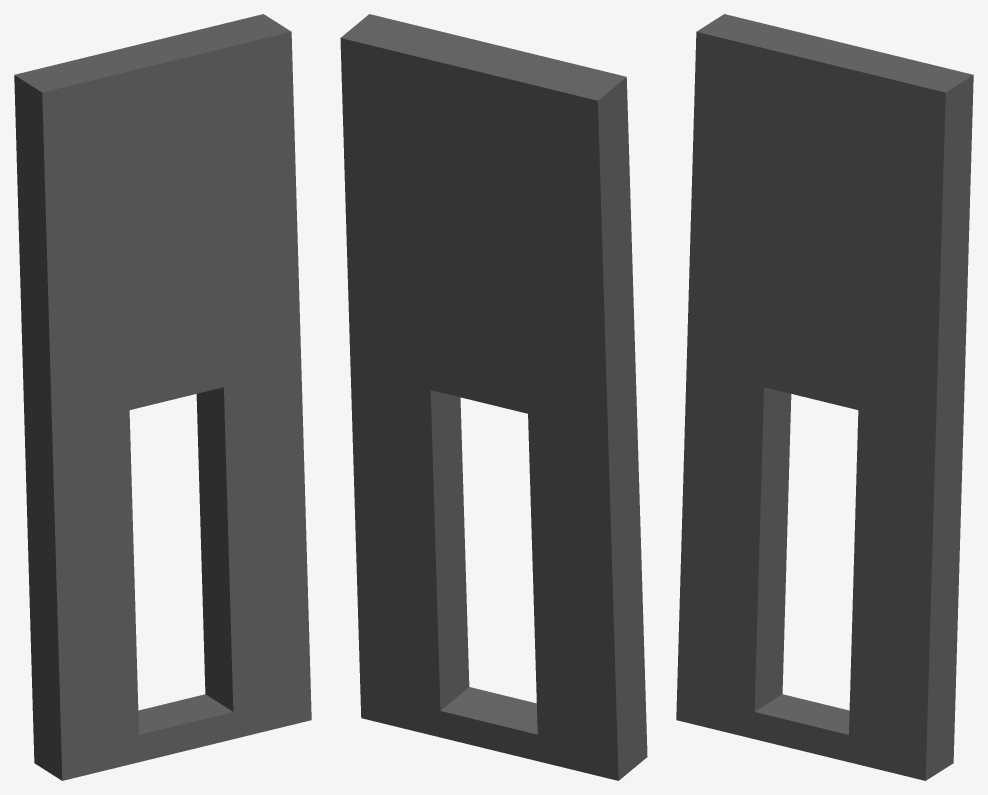
Rendered from kingdom_SM_Prop_Chest_01_Latch.gltf.
3 views of the same model, side by side, from view 1: azimuth 30°, elevation 25°; view 2: azimuth 150°, elevation 25°; view 3: azimuth 330°, elevation 25° (orthographic). The views are drawn at different scales.
Visible parts, largest first — view 1: SM_Prop_Chest_01_Latch; view 2: SM_Prop_Chest_01_Latch; view 3: SM_Prop_Chest_01_Latch.
Part boxes in pixels (box(x1,y1,x2,y2)): SM_Prop_Chest_01_Latch: box(14, 14, 311, 780); SM_Prop_Chest_01_Latch: box(340, 14, 647, 780); SM_Prop_Chest_01_Latch: box(676, 14, 973, 780).
Size of the model in its own units: 0.064 by 0.1658 by 0.0214.
1 material, 1 textured.
